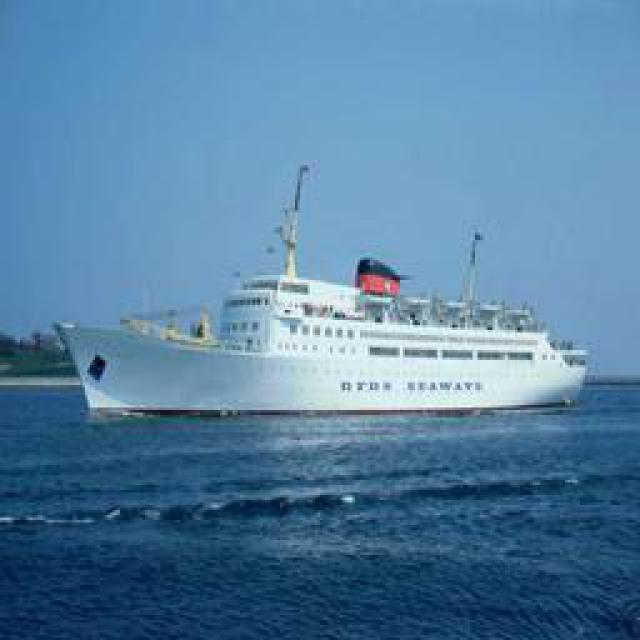Ship: (68, 160, 583, 415)
